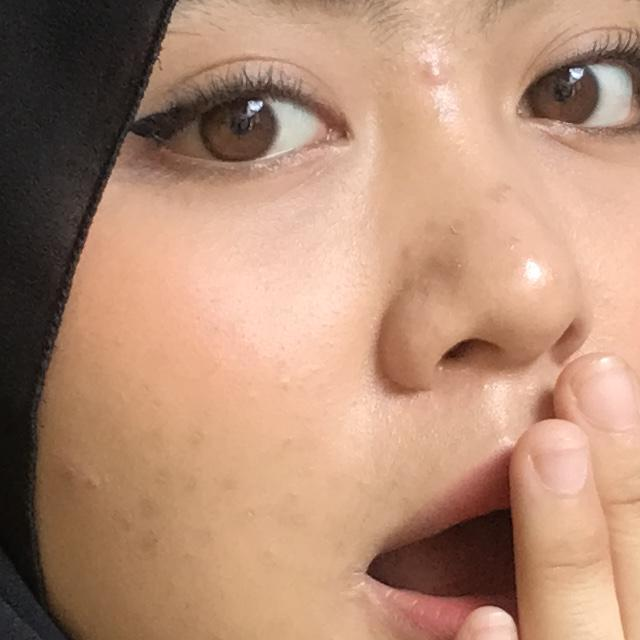ngantuk: (310, 256, 640, 640)
